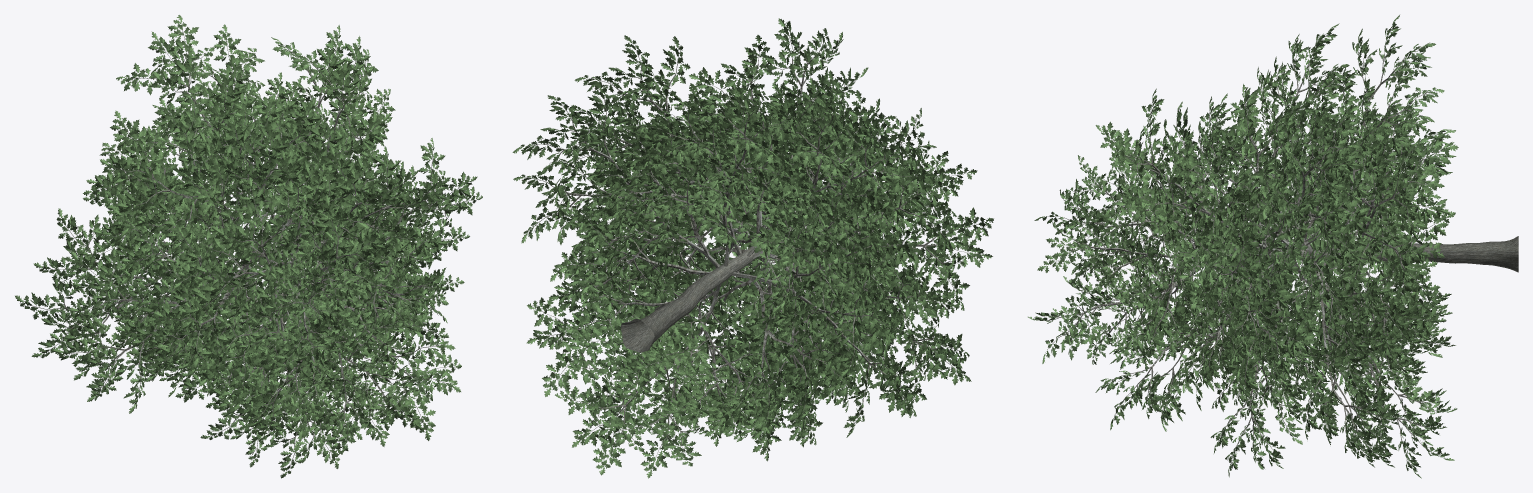
The model's file is oak.obj.
3 views of the same model, side by side, from view 1: azimuth 30°, elevation 25°; view 2: azimuth 150°, elevation 25°; view 3: azimuth 270°, elevation 25° (orthographic). The views are drawn at different scales.
Visible parts, largest first — view 1: cgaxis_models_115_37_01, cgaxis_models_115_37_02, cgaxis_models_115_37_03; view 2: cgaxis_models_115_37_01, cgaxis_models_115_37_02, cgaxis_models_115_37_03, cgaxis_models_115_37_04; view 3: cgaxis_models_115_37_01, cgaxis_models_115_37_02, cgaxis_models_115_37_03, cgaxis_models_115_37_04.
Part boxes in pixels (box(x1,y1,x2,y2)): cgaxis_models_115_37_01: box(24, 24, 475, 469); cgaxis_models_115_37_02: box(15, 15, 482, 478); cgaxis_models_115_37_03: box(28, 27, 473, 467); cgaxis_models_115_37_01: box(524, 21, 988, 468); cgaxis_models_115_37_02: box(512, 18, 993, 478); cgaxis_models_115_37_03: box(529, 34, 978, 459); cgaxis_models_115_37_04: box(620, 226, 790, 352); cgaxis_models_115_37_01: box(1034, 26, 1456, 470); cgaxis_models_115_37_02: box(1028, 15, 1458, 478); cgaxis_models_115_37_03: box(1040, 34, 1443, 465); cgaxis_models_115_37_04: box(1222, 236, 1518, 272).
Bounding box in the file's own units: 16.79 × 16.69 × 17.54.
4 materials, 4 textured.
